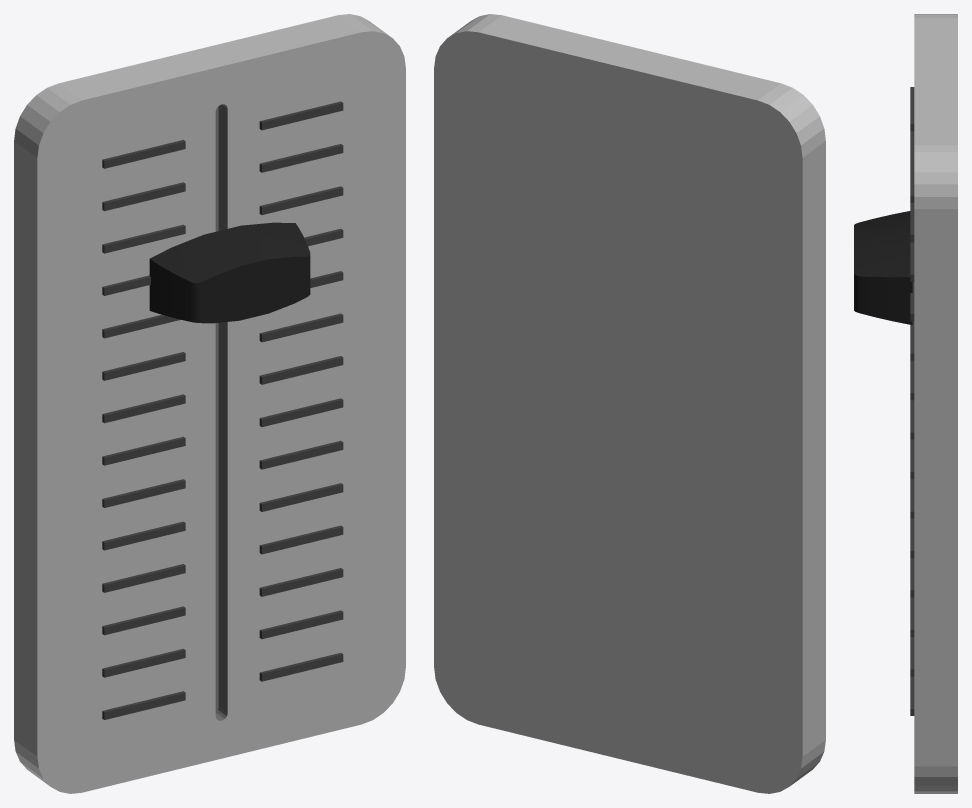
Rendered from level_slider.glb.
3 views of the same model, side by side, from view 1: azimuth 30°, elevation 25°; view 2: azimuth 150°, elevation 25°; view 3: azimuth 270°, elevation 25° (orthographic). The views are drawn at different scales.
Visible parts, largest first — view 1: Cube.882; view 2: Cube.882; view 3: Cube.882.
Boxes of the visible parts, box(x1,y1,x2,y2) form: Cube.882: box(14, 14, 405, 793); Cube.882: box(434, 14, 825, 793); Cube.882: box(854, 14, 957, 793).
Bounding box in the file's own units: 1.29 × 2.31 × 0.3374.
Materials: 1 (1 with a texture image).
